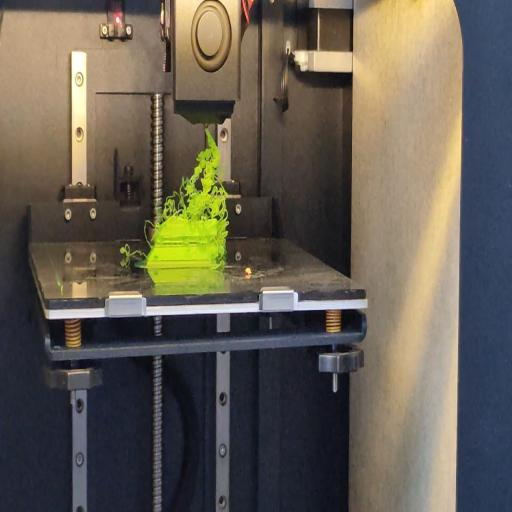spaghetti: (162, 127, 228, 216), (217, 215, 228, 268), (121, 240, 142, 263), (142, 217, 152, 249)
